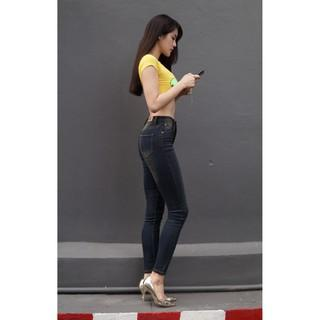pants: (137, 117, 190, 276)
